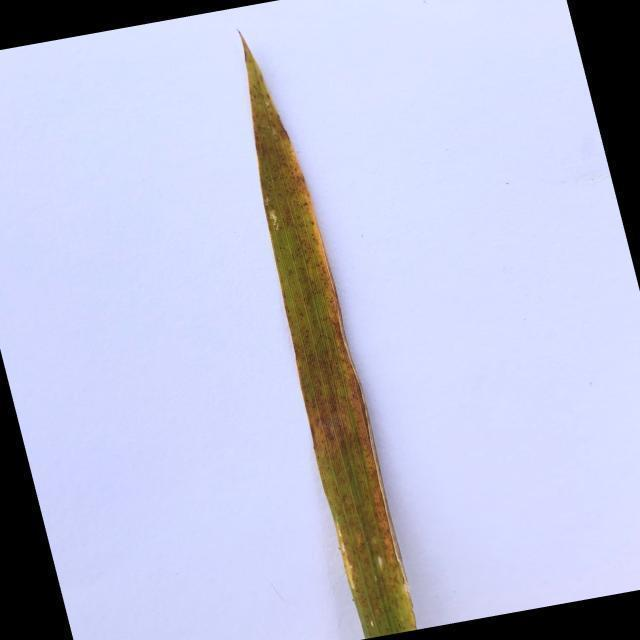Rice Tungro: (236, 36, 419, 635)
